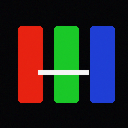3 line_h: (38, 70, 88, 74)
